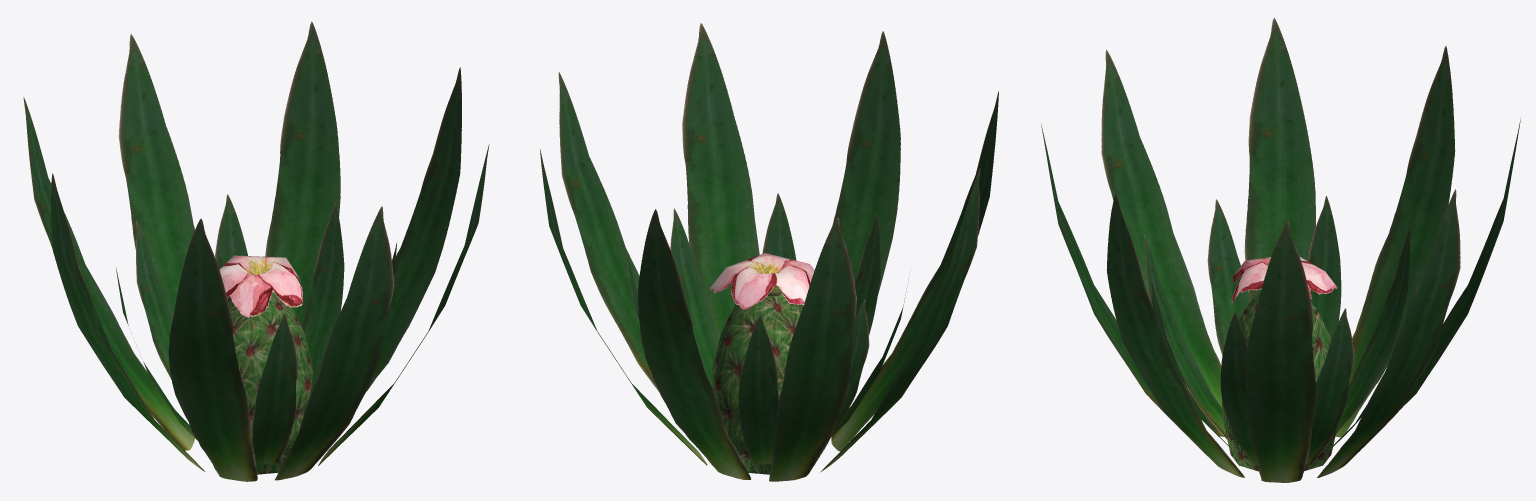
The model's file is plant-02.fbx.
The picture shows the model from 3 angles, left to right: view 1: azimuth 30°, elevation 25°; view 2: azimuth 150°, elevation 25°; view 3: azimuth 270°, elevation 25°; orthographic projection.
Visible parts, largest first — view 1: Plane.005_Plane.002; view 2: Plane.005_Plane.002; view 3: Plane.005_Plane.002.
Boxes of the visible parts, bbox=[...] form: Plane.005_Plane.002: bbox=[23, 21, 489, 481]; Plane.005_Plane.002: bbox=[540, 23, 998, 481]; Plane.005_Plane.002: bbox=[1041, 18, 1520, 482].
Bounding box in the file's own units: 1.12 × 0.8709 × 1.12.
